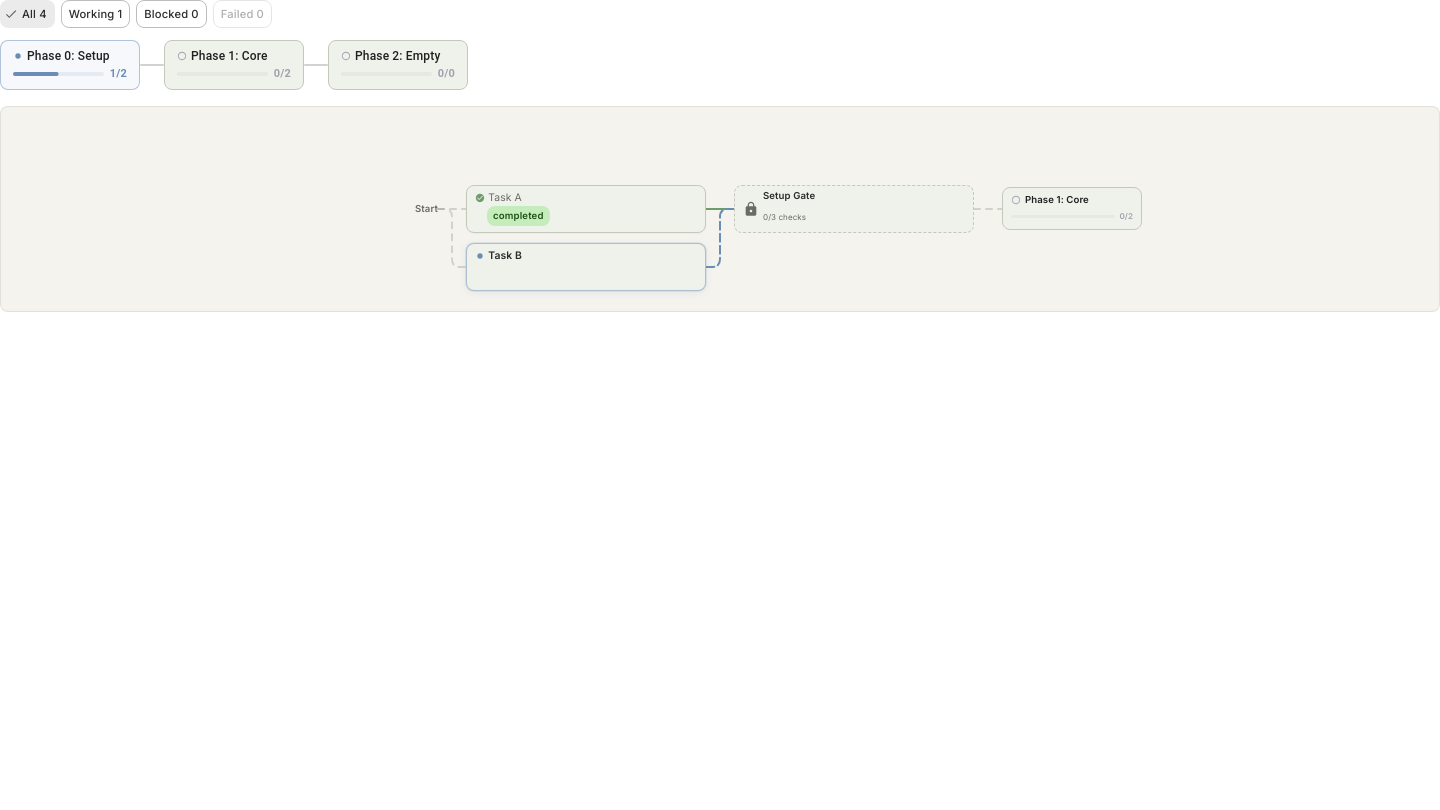
Test case: Pipeline: click to navigate › opens session panel when task node is clicked
The width and height of the screenshot is (1440, 810).
Click the element showing "Task B". click: (586, 267)
box: [466,243,706,291]
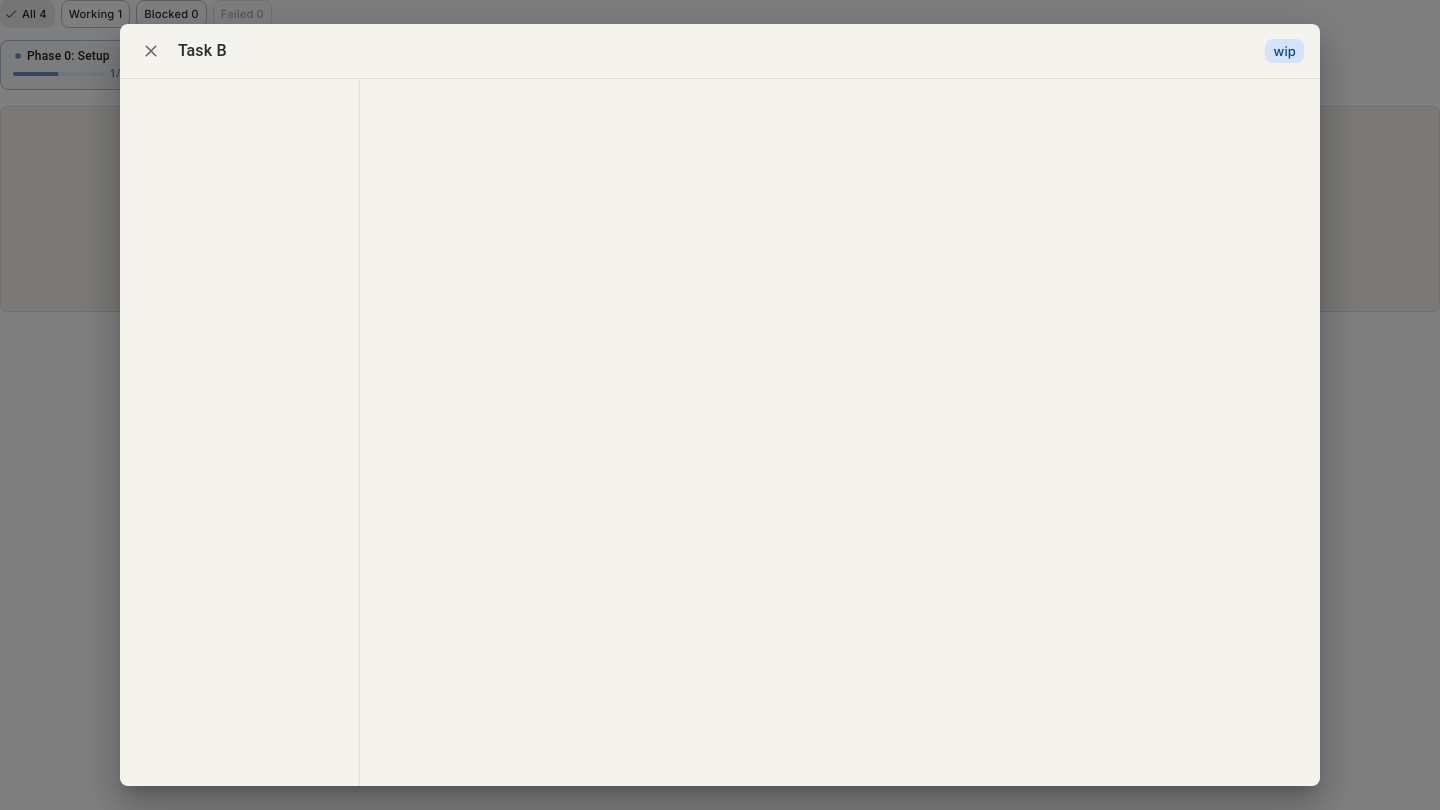
expect the button named "Close panel" is shown: met, box [136,36,166,66]
